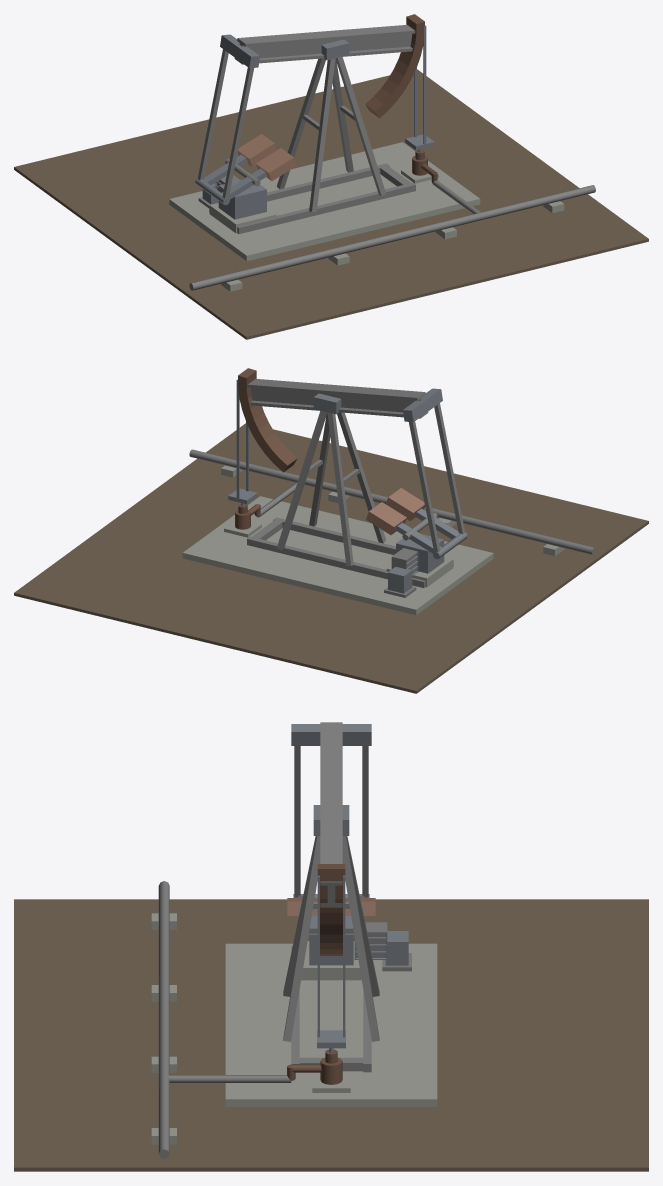
The model's file is tile_close.fbx.
The picture shows the model from 3 angles, top to bottom: view 1: azimuth 30°, elevation 25°; view 2: azimuth 150°, elevation 25°; view 3: azimuth 270°, elevation 25°; orthographic projection. The views are drawn at different scales.
Parts seen in each view (by area): view 1: a1017.Tile.001; view 2: a1017.Tile.001; view 3: a1017.Tile.001.
Boxes of the visible parts, box(x1,y1,x2,y2) form: a1017.Tile.001: box(14, 14, 648, 339); a1017.Tile.001: box(14, 368, 648, 693); a1017.Tile.001: box(14, 722, 648, 1171).
Bounding box in the file's own units: 15 × 6.65 × 15.
